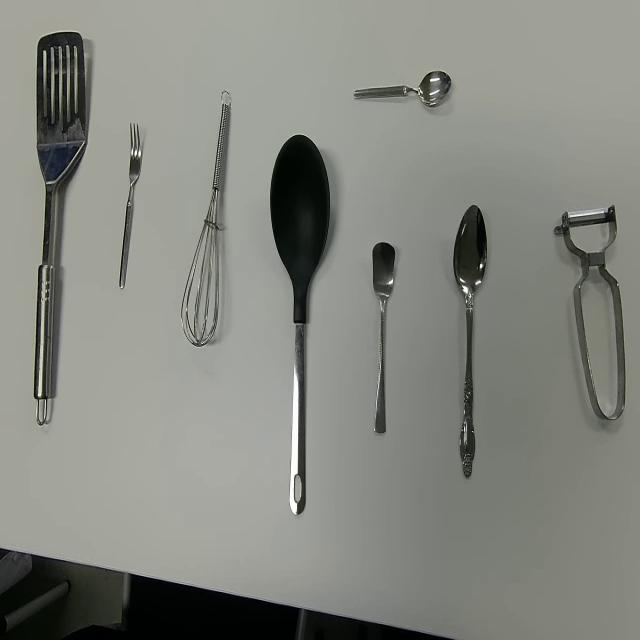Desert-Spoon: (452, 203, 488, 479)
Dinner-Fork: (118, 120, 142, 290)
Peeler: (553, 201, 626, 421)
Serving-Spoon: (269, 132, 331, 514), (33, 30, 87, 428)
Tea-Spoon: (372, 239, 396, 435), (353, 68, 452, 107)
Whisk: (181, 89, 232, 348)
